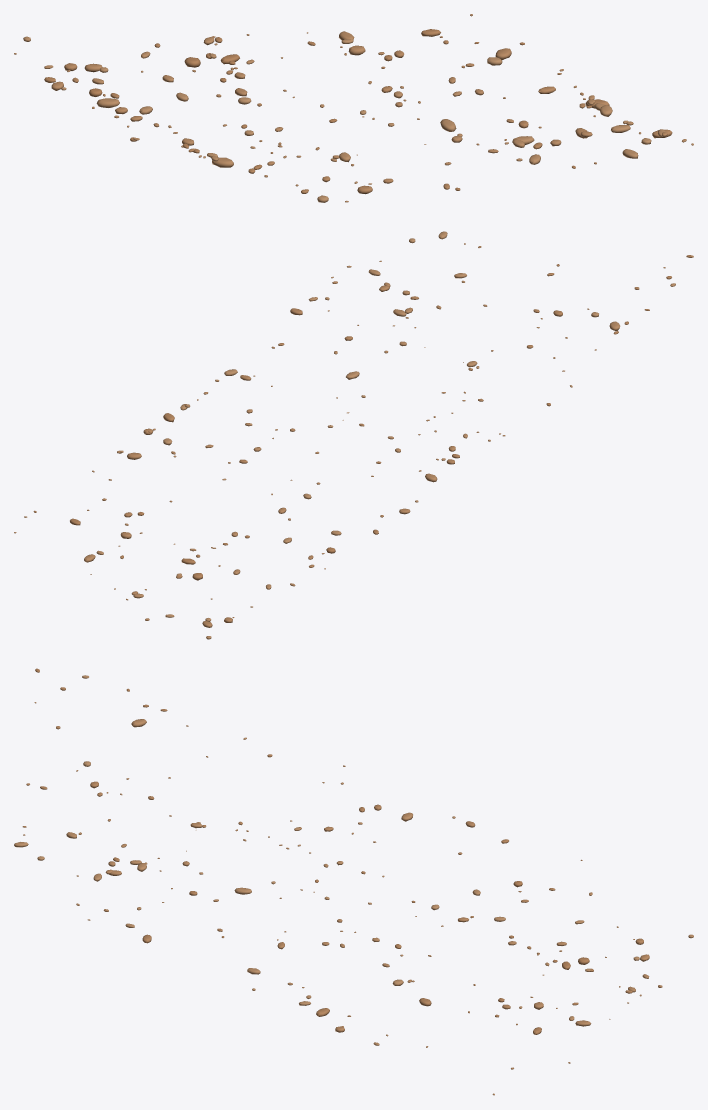
The model's file is terrain-104.glb.
The picture shows the model from 3 angles, top to bottom: view 1: azimuth 30°, elevation 25°; view 2: azimuth 150°, elevation 25°; view 3: azimuth 270°, elevation 25°; orthographic projection. The views are drawn at different scales.
Parts seen in each view (by area): view 1: terrain-104; view 2: terrain-104; view 3: terrain-104.
Part boxes in pixels (left/top/right/bottom): terrain-104: left=14, top=14, right=693, bottom=202; terrain-104: left=14, top=231, right=693, bottom=639; terrain-104: left=14, top=668, right=693, bottom=1095.
Size of the model in its own units: 51.62 by 22.43 by 66.6.
